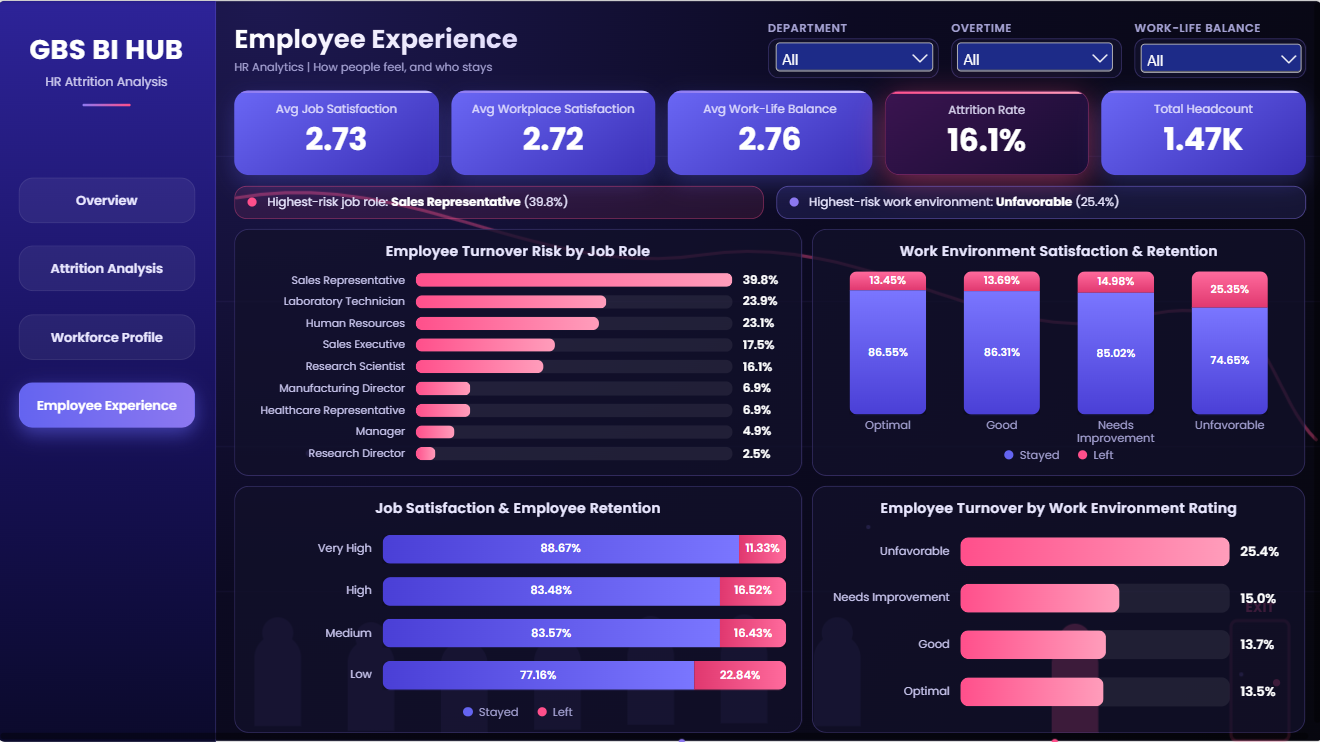

What the dashboard file says about the page in this screenshot:
{"tool":"powerbi","page":{"name":"Employee Experience","canvas":[1280,720],"ordinal":4},"visuals":[{"type":"htmlContent443BE3AD55E043BF878BED274D3A6855","fields":{"content":["DAX.HR Experience HTML"]},"box":[0,0,1280,716.6],"z":0},{"type":"slicer","fields":{"Values":["Employee_Fact.Work-LifeB Level"]},"box":[1099.1,37.4,165.3,45.8],"z":1000},{"type":"slicer","fields":{"Values":["Employee_Fact.OverTime"]},"box":[921.7,36.2,160.5,45.8],"z":2000},{"type":"slicer","fields":{"Values":["Department_Dim.Department"]},"box":[746.8,36.2,161.7,35],"z":3000},{"type":"actionButton","box":[22.9,172.5,170.1,39.8],"z":4000},{"type":"actionButton","box":[22.9,238.9,170.1,42.2],"z":5000},{"type":"actionButton","box":[22.9,304,170.1,39.8],"z":6000},{"type":"actionButton","box":[22.9,370.4,170.1,39.8],"z":7000}]}

Visuals, with their boxes in screenshot pixels (x1, y1, x2, y2), scaled from the page's 1280x720 canvas onto the 1320x742 screenshot:
htmlContent443BE3AD55E043BF878BED274D3A6855 - DAX.HR Experience HTML: box(0, 0, 1319, 738)
slicer - Employee_Fact.Work-LifeB Level: box(1133, 39, 1304, 86)
slicer - Employee_Fact.OverTime: box(951, 37, 1116, 85)
slicer - Department_Dim.Department: box(770, 37, 937, 73)
actionButton: box(24, 178, 199, 219)
actionButton: box(24, 246, 199, 290)
actionButton: box(24, 313, 199, 354)
actionButton: box(24, 382, 199, 423)
